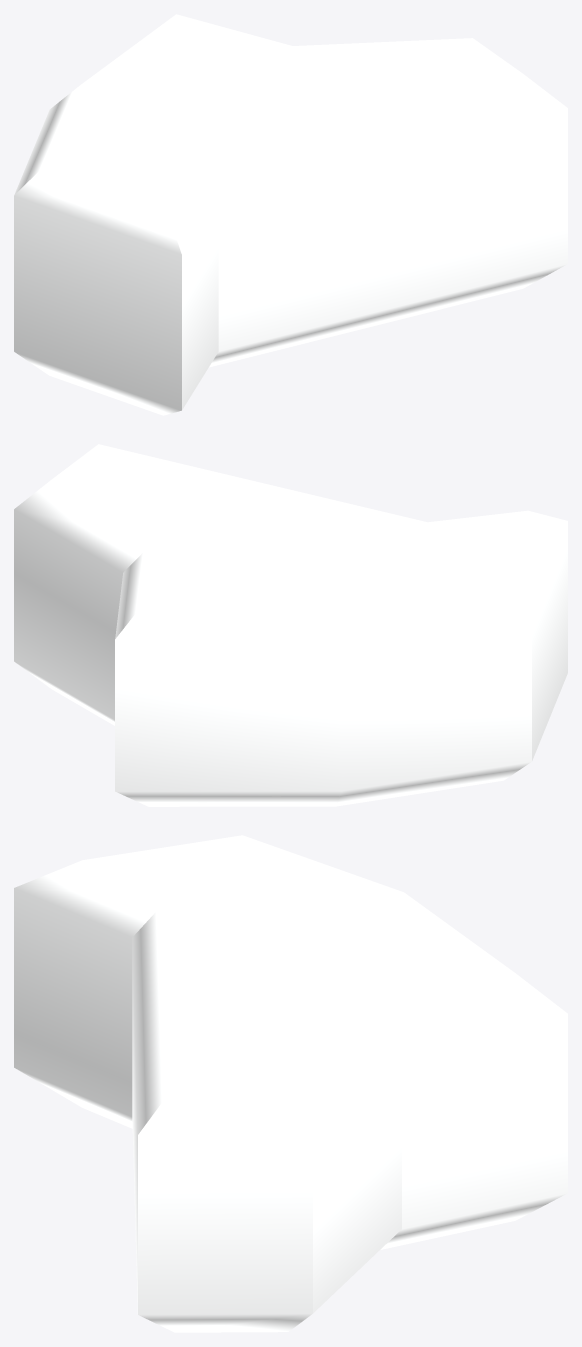
Rendered from ice_floe_small_012.glb.
3 renders of one model, top to bottom at view 1: azimuth 30°, elevation 25°; view 2: azimuth 150°, elevation 25°; view 3: azimuth 270°, elevation 25°, orthographic. The views are drawn at different scales.
Visible parts, largest first — view 1: ice_floe_small_012; view 2: ice_floe_small_012; view 3: ice_floe_small_012.
Part boxes in pixels (left/top/right/bottom): ice_floe_small_012: left=14, top=14, right=567, bottom=415; ice_floe_small_012: left=14, top=444, right=567, bottom=806; ice_floe_small_012: left=14, top=835, right=567, bottom=1332.
Size of the model in its own units: 1.71 by 0.6962 by 1.41.
Materials: 1 (1 with a texture image).
